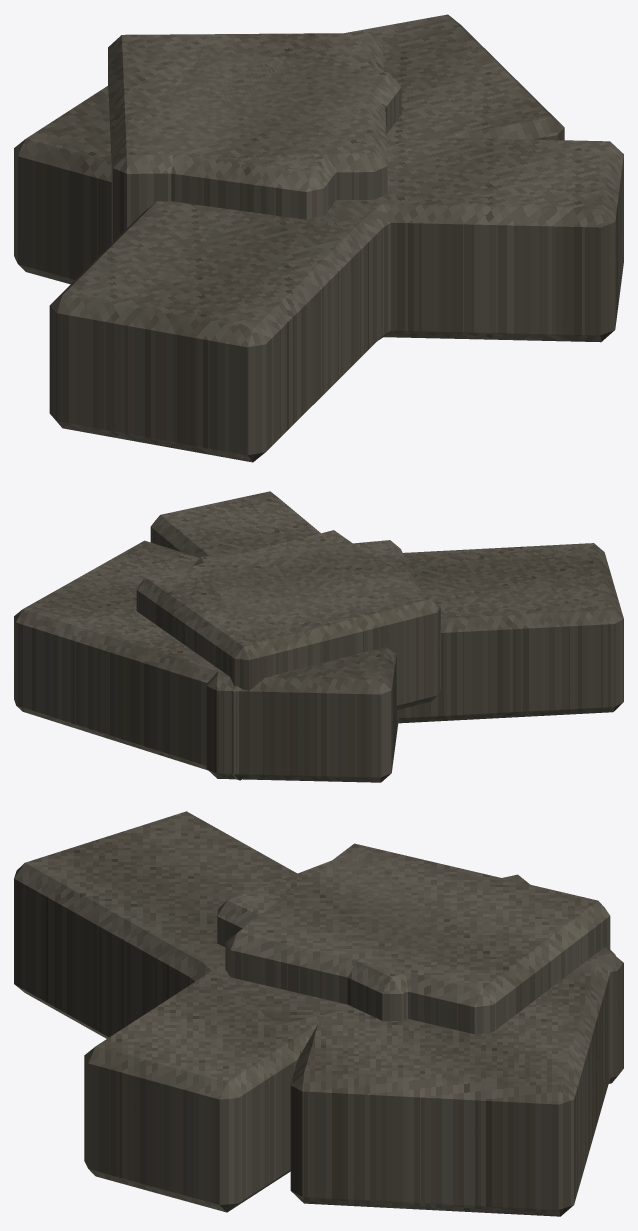
Rendered from env_rocks_12_wallfall_rubble.glb.
3 views of the same model, one above another, from view 1: azimuth 30°, elevation 25°; view 2: azimuth 150°, elevation 25°; view 3: azimuth 270°, elevation 25° (orthographic). The views are drawn at different scales.
Visible parts, largest first — view 1: solid; view 2: solid; view 3: solid.
Part boxes in pixels (x1,y1,x2,y2): solid: (14, 14, 623, 462); solid: (14, 491, 623, 782); solid: (14, 811, 623, 1216).
Bounding box in the file's own units: 1.24 × 0.344 × 1.12.
1 material, 1 textured.
